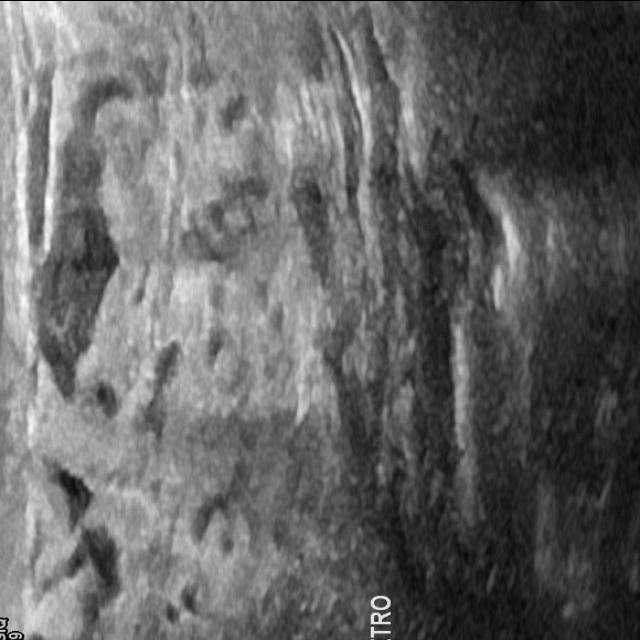Benign: (30, 208, 120, 366)
